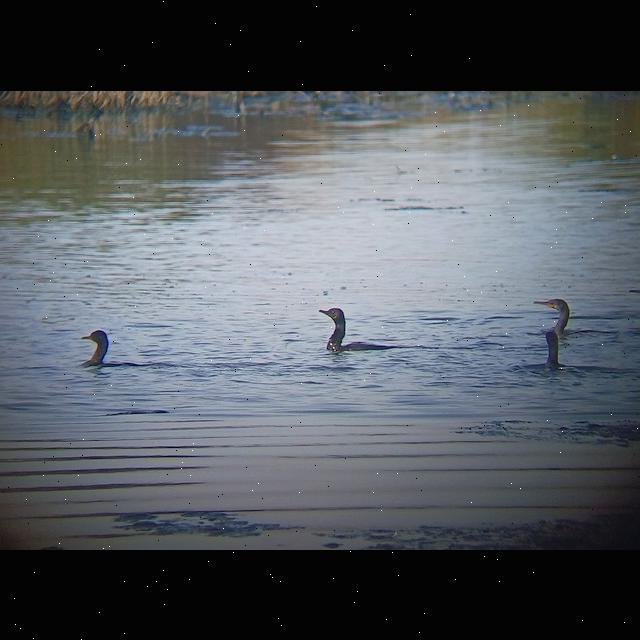cormorant: (319, 304, 387, 356), (74, 328, 130, 372), (532, 290, 584, 330)
